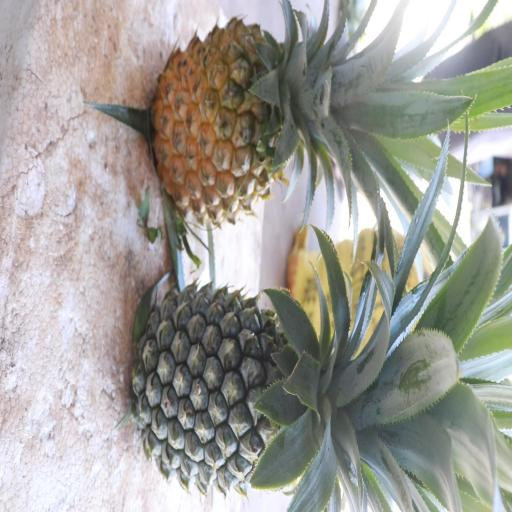Pineapple - v8 v1: (144, 20, 418, 217)
